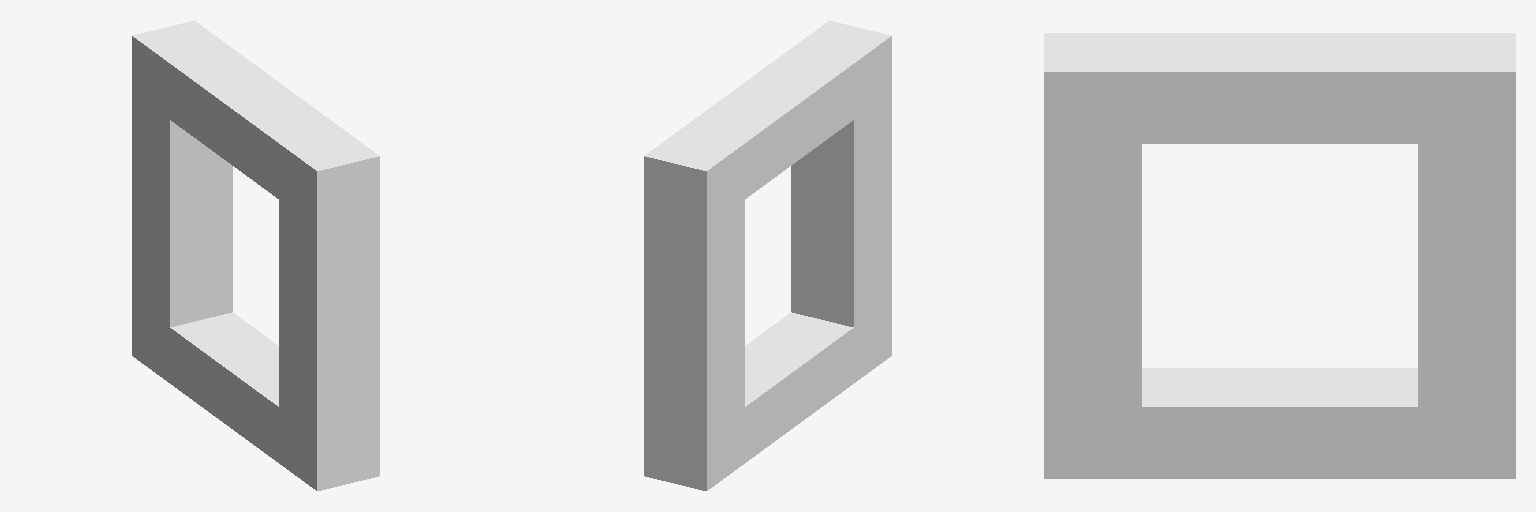
URDF robot description (geom_hollow_cuboid):
<?xml version='1.0' encoding='UTF-8'?>
<robot name="geom_hollow_cuboid">
  <link name="base">
    <inertial>
      <origin xyz="0.0 0.0 0.0" rpy="0.0 -0.0 0.0"/>
      <mass value="1.0"/>
      <inertia ixx="1.0" ixy="0.0" ixz="0.0" iyy="1.0" iyz="0.0" izz="1.0"/>
    </inertial>
    <visual>
      <geometry>
        <box size="0.20968412 1.07388198 0.17962074"/>
      </geometry>
      <material name="color[1.0, 1.0, 1.0, 1.0]"/>
      <origin xyz="0.0 0.0 0.4216369390487671" rpy="0.0 0.0 0.0"/>
    </visual>
    <visual>
      <geometry>
        <box size="0.20968412 1.07388198 0.17962074"/>
      </geometry>
      <material name="color[1.0, 1.0, 1.0, 1.0]"/>
      <origin xyz="0.0 0.0 -0.4216369390487671" rpy="0.0 0.0 0.0"/>
    </visual>
    <visual>
      <geometry>
        <box size="0.20968412 0.22122556 1.02289462"/>
      </geometry>
      <material name="color[1.0, 1.0, 1.0, 1.0]"/>
      <origin xyz="0.0 0.42632821202278137 0.0" rpy="0.0 0.0 0.0"/>
    </visual>
    <visual>
      <geometry>
        <box size="0.20968412 0.22122556 1.02289462"/>
      </geometry>
      <material name="color[1.0, 1.0, 1.0, 1.0]"/>
      <origin xyz="0.0 -0.42632821202278137 0.0" rpy="0.0 0.0 0.0"/>
    </visual>
    <collision>
      <geometry>
        <box size="0.20968412 1.07388198 0.17962074"/>
      </geometry>
      <origin xyz="0.0 0.0 0.4216369390487671" rpy="0.0 0.0 0.0"/>
    </collision>
    <collision>
      <geometry>
        <box size="0.20968412 1.07388198 0.17962074"/>
      </geometry>
      <origin xyz="0.0 0.0 -0.4216369390487671" rpy="0.0 0.0 0.0"/>
    </collision>
    <collision>
      <geometry>
        <box size="0.20968412 0.22122556 1.02289462"/>
      </geometry>
      <origin xyz="0.0 0.42632821202278137 0.0" rpy="0.0 0.0 0.0"/>
    </collision>
    <collision>
      <geometry>
        <box size="0.20968412 0.22122556 1.02289462"/>
      </geometry>
      <origin xyz="0.0 -0.42632821202278137 0.0" rpy="0.0 0.0 0.0"/>
    </collision>
  </link>
  <material name="color[1.0, 1.0, 1.0, 1.0]">
    <color rgba="1. 1. 1. 1."/>
  </material>
</robot>

--- Facts derived from the render (not from the file) ---
3 views of the same robot in one strip: view 1: azimuth 30°, elevation 25°; view 2: azimuth 150°, elevation 25°; view 3: azimuth 270°, elevation 25° (orthographic).
Robot: geom_hollow_cuboid — 1 links, 0 joints (none); root link base; default pose: every joint at zero.
Visible links, largest first — view 1: base; view 2: base; view 3: base.
Link boxes in pixels (x1,y1,x2,y2): base: [132, 21, 379, 490]; base: [644, 21, 891, 490]; base: [1044, 33, 1515, 478].
Bounding box of the posed robot: 0.2097 × 1.07 × 1.02 m (x, y, z).
Geometry: primitives only (box / cylinder / sphere), no mesh files.
